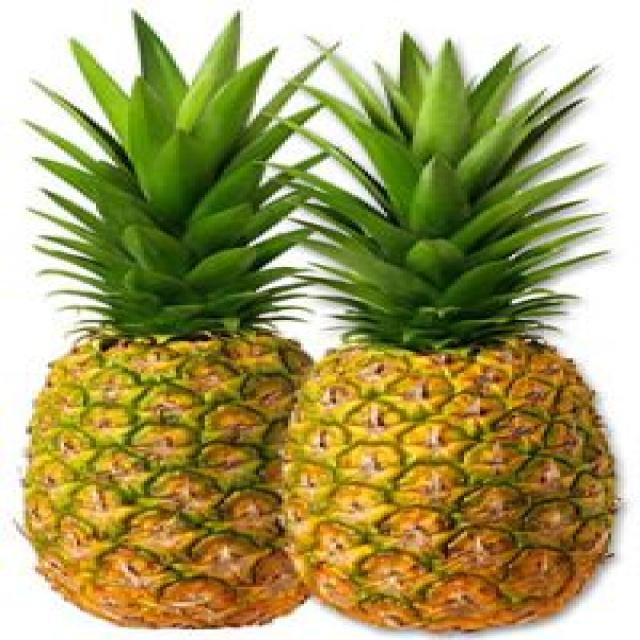pineapple: (14, 262, 335, 630), (289, 280, 617, 622)
